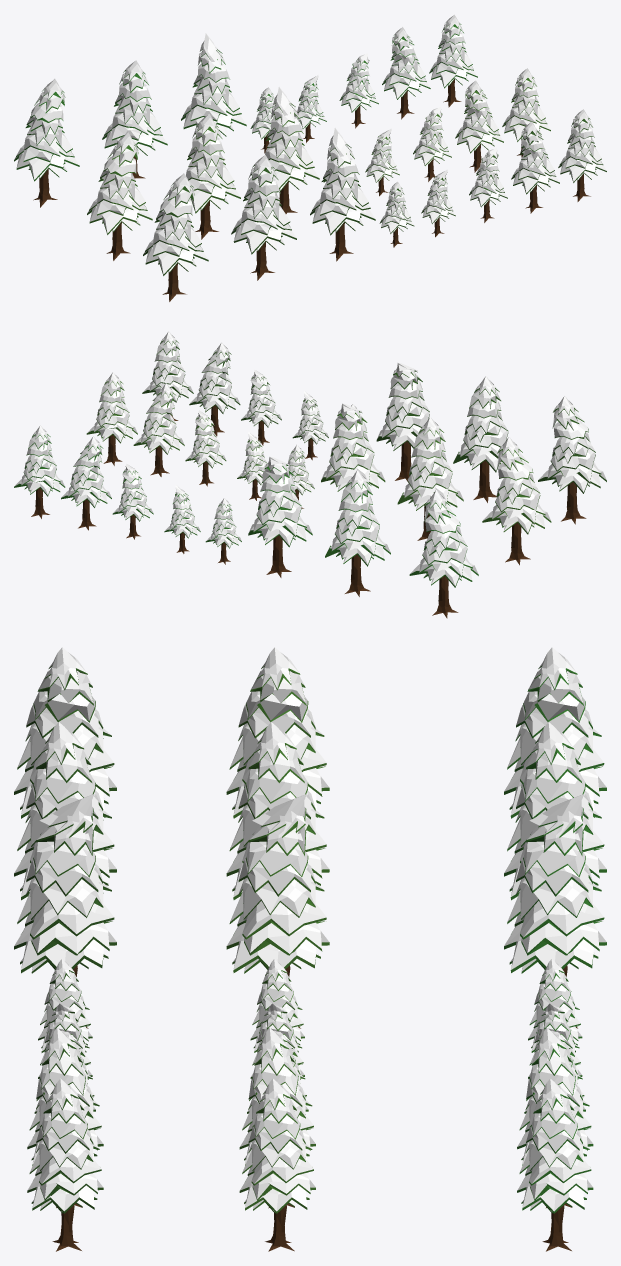
The model's file is LowPolyTrees.fbx.
3 renders of one model, top to bottom at view 1: azimuth 30°, elevation 25°; view 2: azimuth 150°, elevation 25°; view 3: azimuth 270°, elevation 25°, orthographic. The views are drawn at different scales.
Visible parts, largest first — view 1: SnowPine8, SnowPine8.001, SnowPine8.002, SnowPine6.001, SnowPine7.001, SnowPine7, SnowPine6, SnowPine6.002, SnowPine7.002, SnowPine1.002, SnowPine1.001, SnowPine2.001 (+11 smaller); view 2: SnowPine8, SnowPine8.002, SnowPine8.001, SnowPine7.002, SnowPine6.002, SnowPine7.001, SnowPine7, SnowPine6.001, SnowPine6, SnowPine1, SnowPine2, SnowPine2.002 (+11 smaller); view 3: SnowPine6, SnowPine6.002, SnowPine6.001, SnowPine8.001, SnowPine8, SnowPine8.002, SnowPine1.001, SnowPine1.002, SnowPine1, SnowPine7, SnowPine7.002, SnowPine7.001 (+9 smaller).
Boxes of the visible parts, box(x1,y1,x2,y2) form: SnowPine8: box(87, 132, 152, 242); SnowPine8.001: box(143, 173, 208, 283); SnowPine8.002: box(14, 79, 79, 188); SnowPine6.001: box(310, 128, 375, 242); SnowPine7.001: box(231, 155, 296, 261); SnowPine7: box(186, 114, 240, 220); SnowPine6: box(265, 87, 319, 201); SnowPine6.002: box(181, 33, 246, 136); SnowPine7.002: box(102, 60, 167, 166); SnowPine1.002: box(429, 14, 477, 93); SnowPine1.001: box(558, 109, 606, 188); SnowPine2.001: box(511, 121, 559, 199); SnowPine8: box(482, 437, 551, 547); SnowPine8.002: box(409, 489, 478, 601); SnowPine8.001: box(538, 396, 606, 507); SnowPine7.002: box(325, 470, 390, 579); SnowPine6.002: box(248, 456, 312, 560); SnowPine7.001: box(453, 376, 508, 485); SnowPine7: box(397, 417, 463, 526); SnowPine6.001: box(376, 362, 429, 466); SnowPine6: box(321, 403, 385, 491); SnowPine1: box(86, 372, 137, 453); SnowPine2: box(133, 383, 184, 464); SnowPine2.002: box(61, 436, 111, 517); SnowPine6: box(226, 794, 329, 976); SnowPine6.002: box(504, 793, 606, 976); SnowPine6.001: box(14, 794, 116, 976); SnowPine8.001: box(14, 647, 116, 818); SnowPine8: box(226, 647, 329, 818); SnowPine8.002: box(504, 647, 606, 818); SnowPine1.001: box(27, 1078, 103, 1232); SnowPine1.002: box(517, 1078, 593, 1233); SnowPine1: box(239, 1079, 315, 1233); SnowPine7: box(226, 722, 329, 899); SnowPine7.002: box(504, 722, 606, 900); SnowPine7.001: box(14, 722, 116, 900).
Size of the model in its own units: 4053 by 1068 by 2419.
